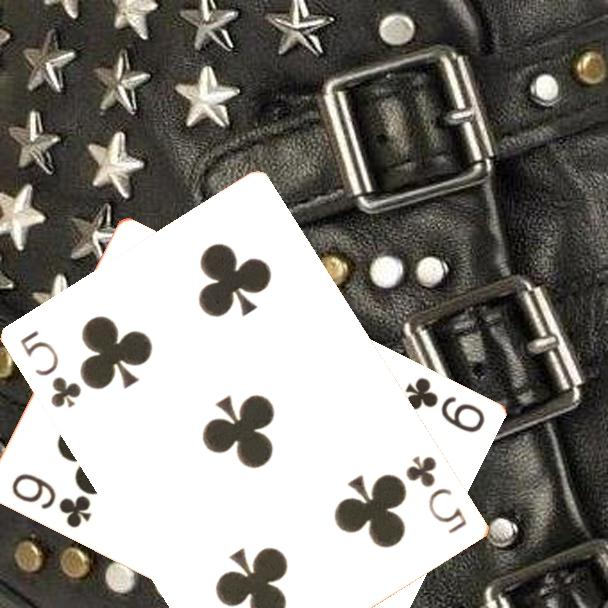c05: (402, 452, 471, 537), (17, 327, 86, 412)
c09: (400, 373, 487, 436), (7, 470, 94, 532)
